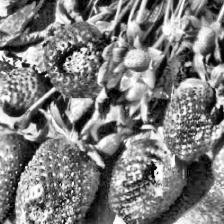Anthracnose Fruit Rot: (21, 188, 73, 224), (187, 83, 224, 127), (52, 43, 94, 78), (146, 159, 166, 181)
